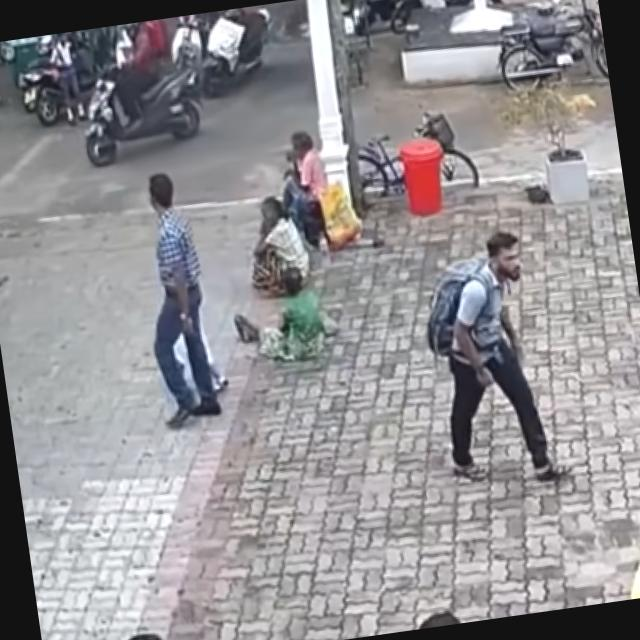person: (416, 224, 566, 494), (126, 165, 228, 426), (230, 266, 333, 368), (104, 19, 180, 128), (274, 130, 336, 253), (242, 193, 313, 300), (44, 32, 90, 124), (614, 493, 640, 600)
